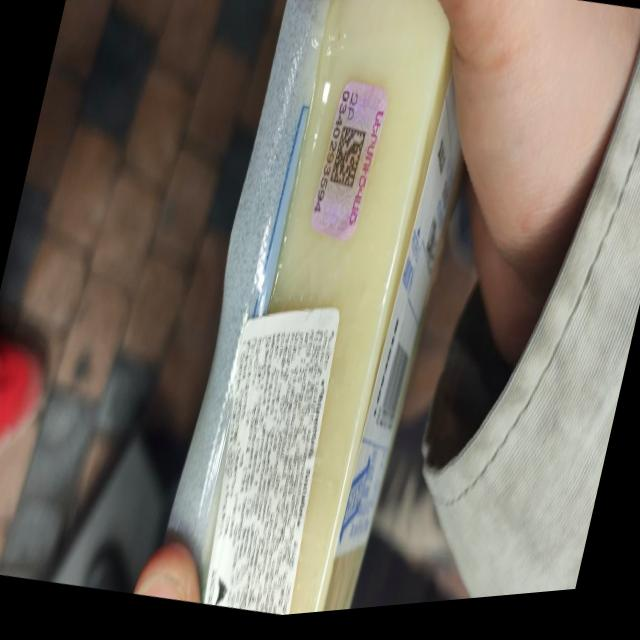datamatrix: (328, 127, 369, 203)
